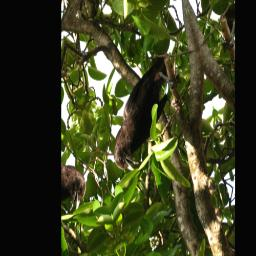Crow: (96, 48, 191, 184)
